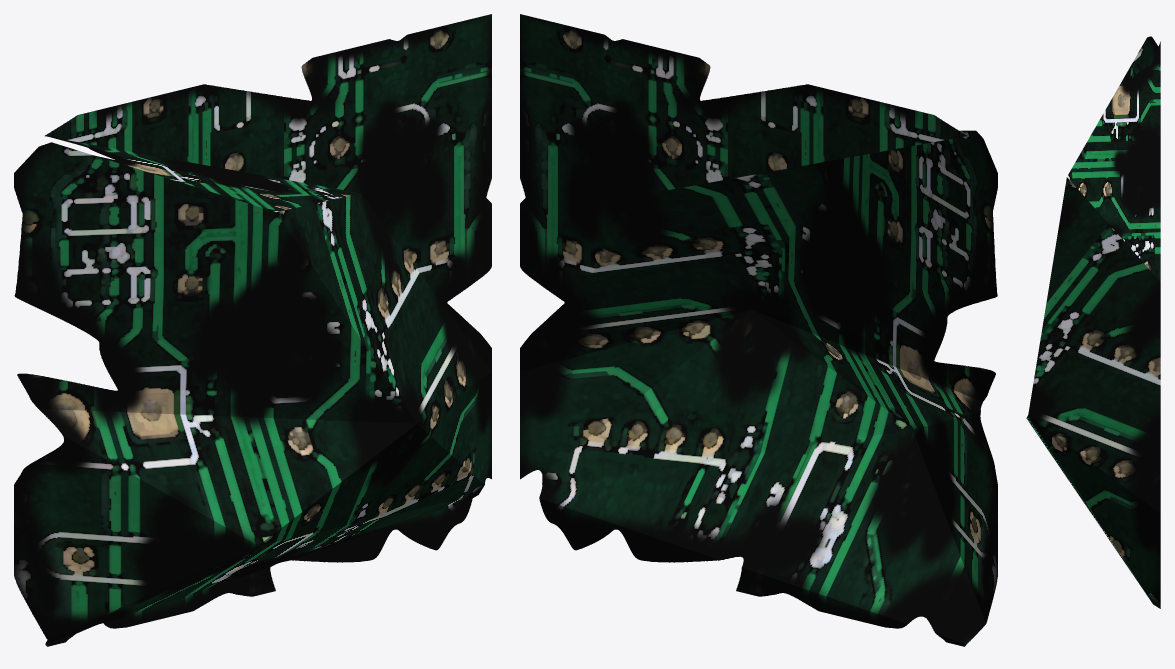
Rendered from brokenCircuitry.FBX.
3 views of the same model, side by side, from view 1: azimuth 30°, elevation 25°; view 2: azimuth 150°, elevation 25°; view 3: azimuth 270°, elevation 25° (orthographic). The views are drawn at different scales.
Parts seen in each view (by area): view 1: brokenCircuitry; view 2: brokenCircuitry; view 3: brokenCircuitry.
Boxes of the visible parts, bbox=[...] form: brokenCircuitry: bbox=[14, 14, 491, 646]; brokenCircuitry: bbox=[520, 14, 997, 646]; brokenCircuitry: bbox=[1026, 36, 1160, 608].
Size of the model in its own units: 4.56 by 4.78 by 1.31.
